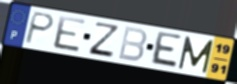B: (116, 25, 149, 64)
E: (52, 14, 88, 55), (148, 30, 183, 71)
M: (177, 35, 216, 75)
P: (23, 10, 57, 46)
Z: (87, 21, 121, 60)
